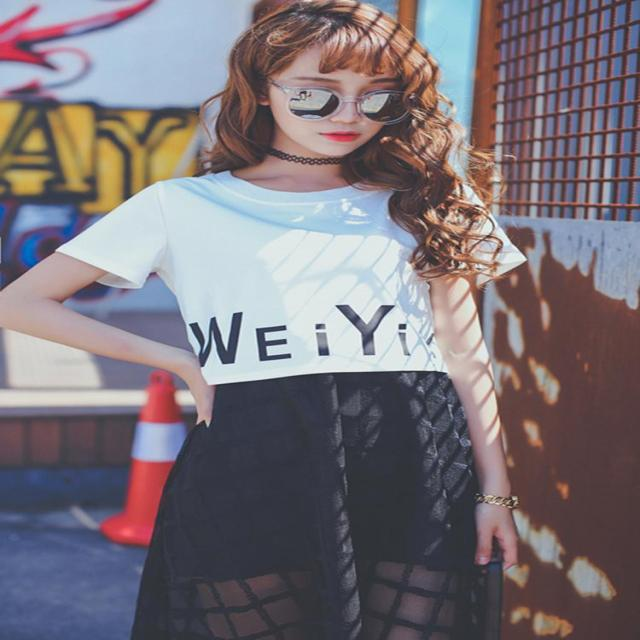short sleeve top: (57, 168, 526, 386)
skirt: (129, 370, 477, 639)
